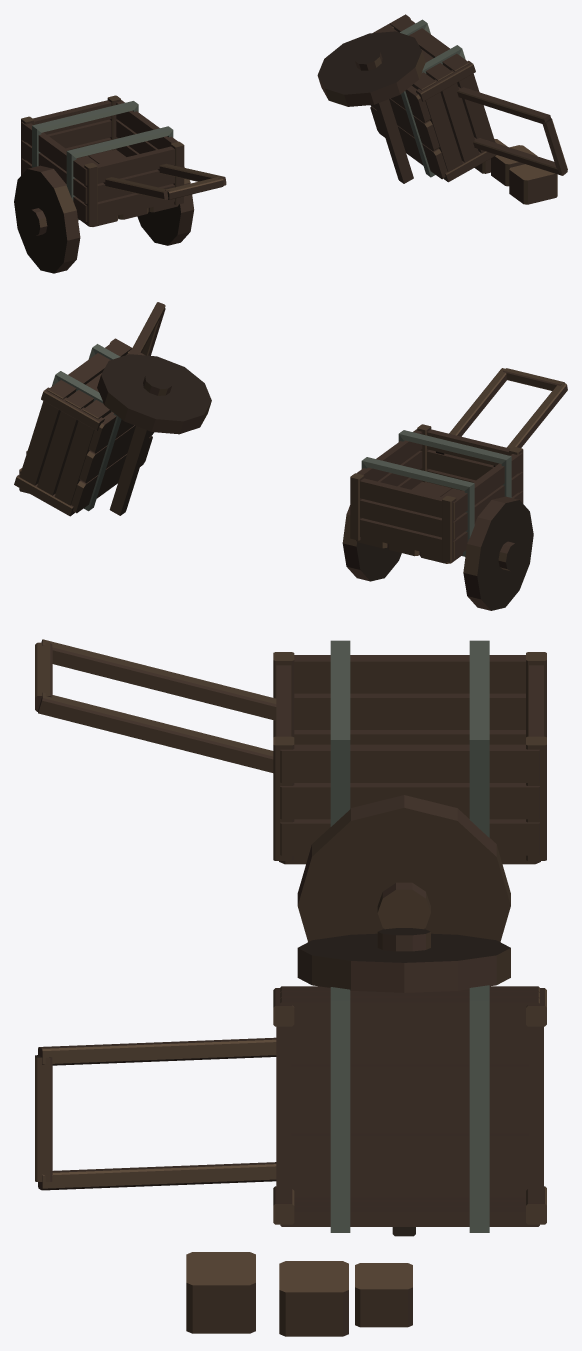
Rendered from d03_abandoned_cargo_cart.glb.
The picture shows the model from 3 angles, top to bottom: view 1: azimuth 30°, elevation 25°; view 2: azimuth 150°, elevation 25°; view 3: azimuth 270°, elevation 25°; orthographic projection. The views are drawn at different scales.
Parts seen in each view (by area): view 1: D03_Tipped_Wheel_NegX_Disk, D03_Intact_Wheel_NegX_Disk, D03_Intact_Wheel_PosX_Disk, D03_Tipped_SpilledCargoBlock_1, D03_Intact_Front_WallBoard_3, D03_Tipped_Front_WallBoard_2, D03_Intact_BroadBronzeBand_01, D03_Tipped_Front_WallBoard_1, D03_Tipped_WoodAxle, D03_Intact_BroadBronzeBand_02, D03_Intact_Left_WallBoard_3, D03_Intact_Front_WallBoard_1 (+28 smaller); view 2: D03_Tipped_Wheel_NegX_Disk, D03_Intact_Wheel_NegX_Disk, D03_Intact_Wheel_PosX_Disk, D03_Intact_Rear_WallBoard_3, D03_Tipped_Rear_WallBoard_2, D03_Tipped_Rear_WallBoard_3, D03_Intact_Rear_WallBoard_1, D03_Intact_Rear_WallBoard_2, D03_Intact_BroadBronzeBand_02, D03_Tipped_Rear_WallBoard_1, D03_Tipped_WoodAxle, D03_Intact_BroadBronzeBand_01 (+23 smaller); view 3: D03_Intact_Wheel_PosX_Disk, D03_Tipped_FloorBoard_2, D03_Tipped_FloorBoard_3, D03_Tipped_Wheel_NegX_Disk, D03_Tipped_FloorBoard_1, D03_Intact_Right_WallBoard_3, D03_Intact_Left_WallBoard_3, D03_Intact_Left_WallBoard_2, D03_Intact_Right_WallBoard_2, D03_Tipped_SpilledCargoBlock_1, D03_Intact_Right_DiagonalHandle, D03_Tipped_SpilledCargoBlock_2 (+25 smaller).
Part boxes in pixels (bbox=[...]): D03_Tipped_Wheel_NegX_Disk: bbox=[317, 31, 425, 106]; D03_Intact_Wheel_NegX_Disk: bbox=[14, 165, 80, 273]; D03_Intact_Wheel_PosX_Disk: bbox=[137, 167, 194, 245]; D03_Tipped_SpilledCargoBlock_1: bbox=[509, 164, 557, 204]; D03_Intact_Front_WallBoard_3: bbox=[96, 146, 174, 183]; D03_Tipped_Front_WallBoard_2: bbox=[440, 83, 479, 162]; D03_Intact_BroadBronzeBand_01: bbox=[66, 126, 173, 219]; D03_Tipped_Front_WallBoard_1: bbox=[425, 92, 462, 171]; D03_Tipped_WoodAxle: bbox=[375, 99, 413, 183]; D03_Intact_BroadBronzeBand_02: bbox=[32, 101, 138, 167]; D03_Intact_Left_WallBoard_3: bbox=[21, 122, 87, 185]; D03_Intact_Front_WallBoard_1: bbox=[97, 184, 174, 220]; D03_Tipped_Wheel_NegX_Disk: bbox=[97, 354, 211, 434]; D03_Intact_Wheel_NegX_Disk: bbox=[463, 496, 533, 610]; D03_Intact_Wheel_PosX_Disk: bbox=[342, 505, 401, 581]; D03_Intact_Rear_WallBoard_3: bbox=[360, 478, 443, 517]; D03_Tipped_Rear_WallBoard_2: bbox=[37, 411, 78, 495]; D03_Tipped_Rear_WallBoard_3: bbox=[19, 401, 60, 485]; D03_Intact_Rear_WallBoard_1: bbox=[360, 518, 441, 556]; D03_Intact_Rear_WallBoard_2: bbox=[360, 499, 441, 537]; D03_Intact_BroadBronzeBand_02: bbox=[361, 457, 474, 556]; D03_Tipped_Rear_WallBoard_1: bbox=[54, 421, 94, 505]; D03_Tipped_WoodAxle: bbox=[109, 426, 150, 515]; D03_Intact_BroadBronzeBand_01: bbox=[398, 430, 511, 497]; D03_Intact_Wheel_PosX_Disk: bbox=[297, 795, 510, 941]; D03_Tipped_FloorBoard_2: bbox=[291, 1064, 528, 1133]; D03_Tipped_FloorBoard_3: bbox=[291, 1133, 528, 1197]; D03_Tipped_Wheel_NegX_Disk: bbox=[297, 933, 510, 992]; D03_Tipped_FloorBoard_1: bbox=[291, 1017, 528, 1064]; D03_Intact_Right_WallBoard_3: bbox=[280, 744, 539, 782]; D03_Intact_Left_WallBoard_3: bbox=[294, 655, 525, 693]; D03_Intact_Left_WallBoard_2: bbox=[294, 693, 525, 729]; D03_Intact_Right_WallBoard_2: bbox=[280, 783, 539, 819]; D03_Tipped_SpilledCargoBlock_1: bbox=[186, 1252, 255, 1333]; D03_Intact_Right_DiagonalHandle: bbox=[38, 692, 273, 772]; D03_Tipped_SpilledCargoBlock_2: bbox=[279, 1261, 348, 1336].
Size of the model in its own units: 4.71 by 1.34 by 2.2.
